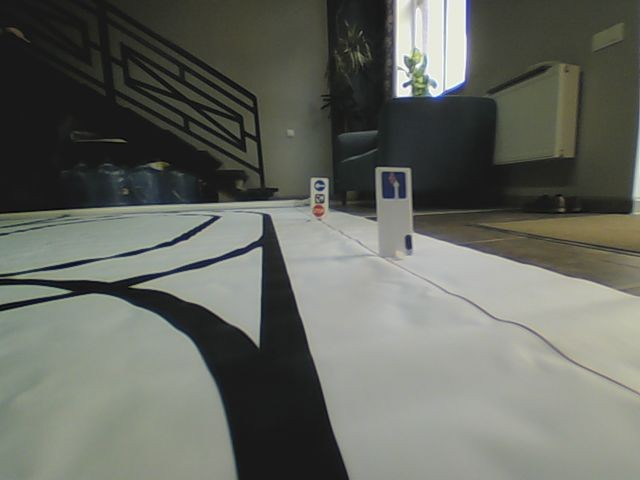priority_movement: (381, 171, 406, 198)
